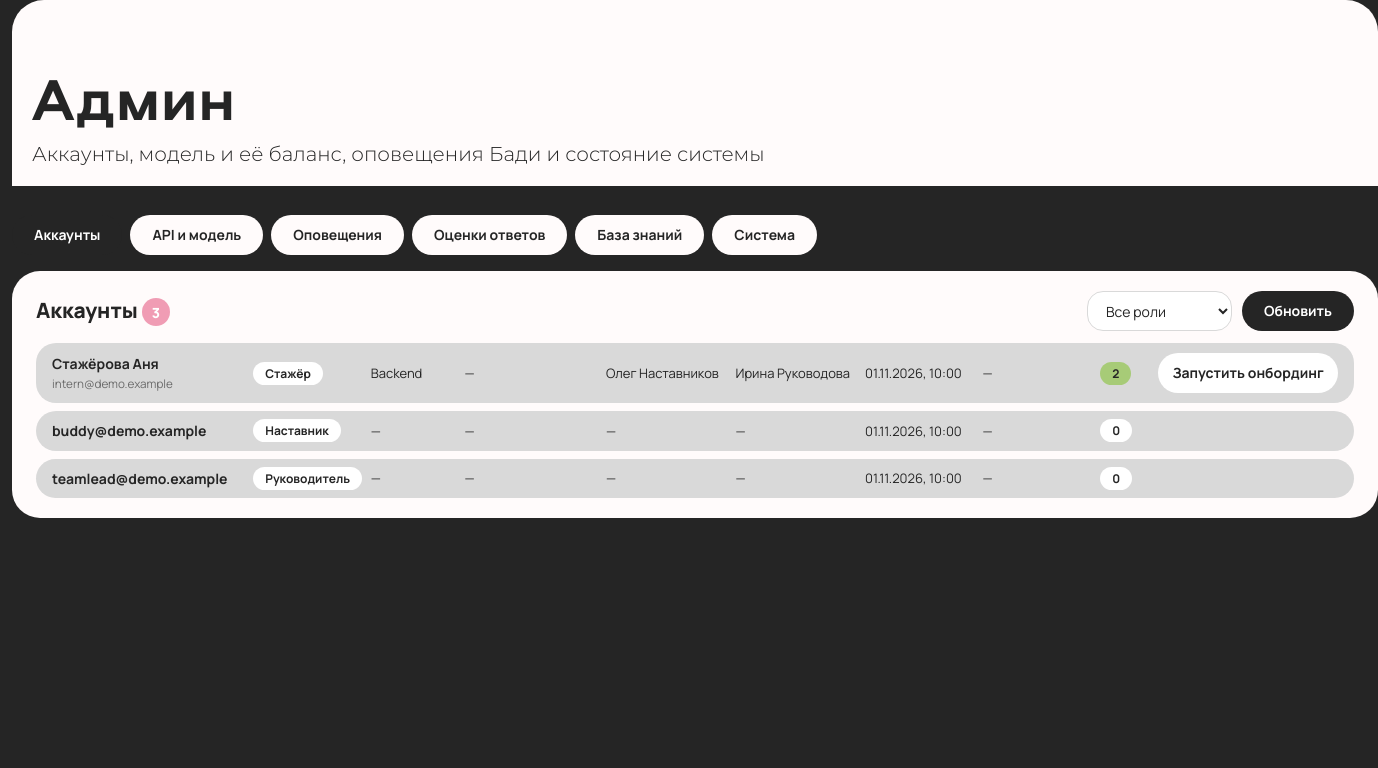
админ-панель › система: статусы проверок, счётчики и перечитывание базы знаний
Click the tab "Система".
click(765, 235)  # box [712,215,817,255]
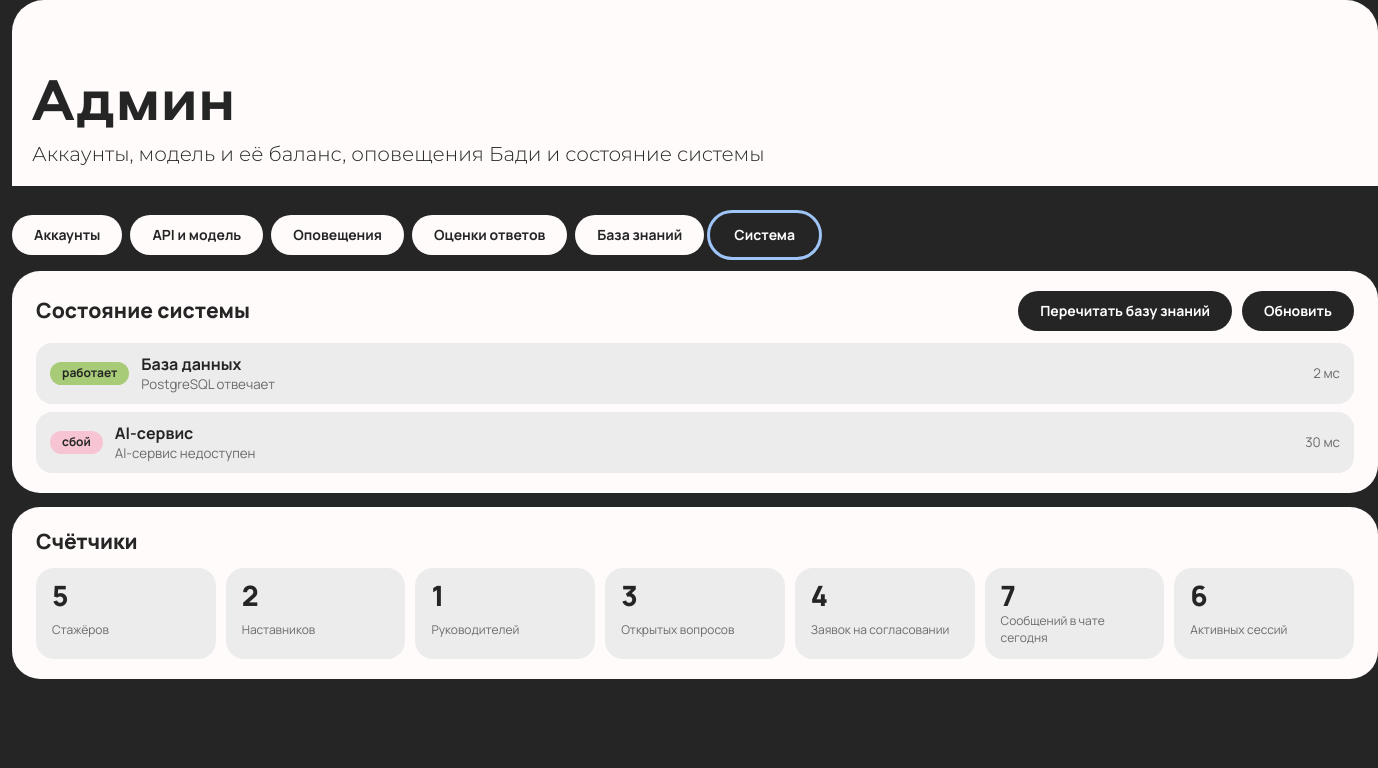
Expected: the text "PostgreSQL отвечает" is shown, [141,375,275,393]
Expected: the text "работает" is shown, [50,362,129,385]
Expected: the text "сбой" is shown, [50,431,103,454]
Click the button "Перечитать базу знаний".
click(1125, 311)  # box [1018,291,1232,331]
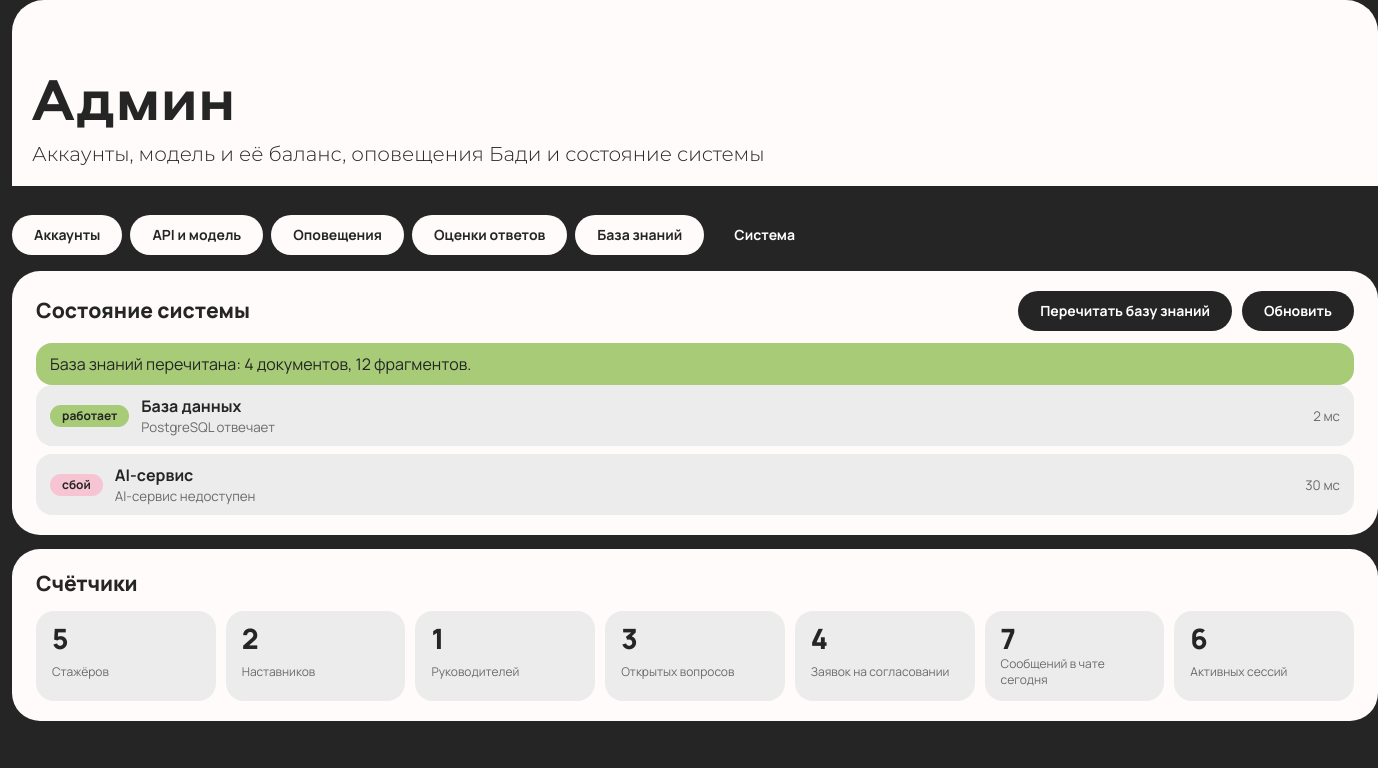
Expected: the text "База знаний перечитана: 4 документов, 12 фрагментов." is shown, [36,343,1354,385]
